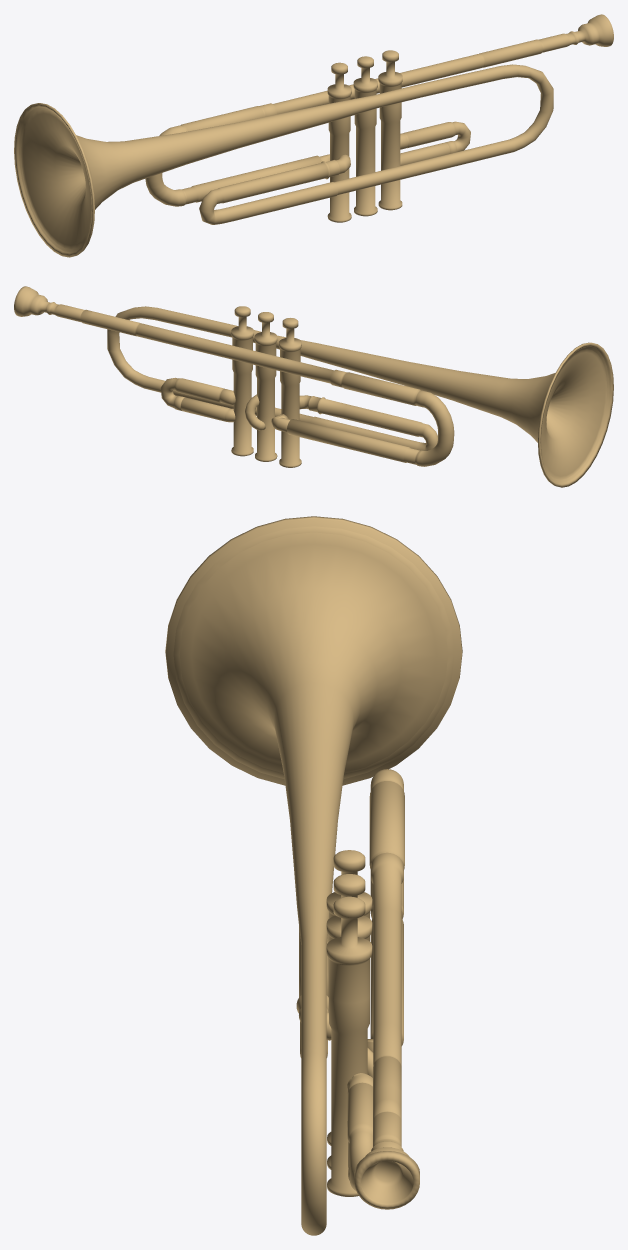
The model's file is TrumpetGoodfsmaller.fbx.
The picture shows the model from 3 angles, top to bottom: view 1: azimuth 30°, elevation 25°; view 2: azimuth 150°, elevation 25°; view 3: azimuth 270°, elevation 25°; orthographic projection. The views are drawn at different scales.
Parts seen in each view (by area): view 1: Cylinder; view 2: Cylinder; view 3: Cylinder.
Part boxes in pixels (<box>): Cylinder: <box>14,14,613,257</box>; Cylinder: <box>14,286,613,487</box>; Cylinder: <box>165,516,462,1235</box>.
Size of the model in its own units: 3.63 by 1.15 by 0.8688.
